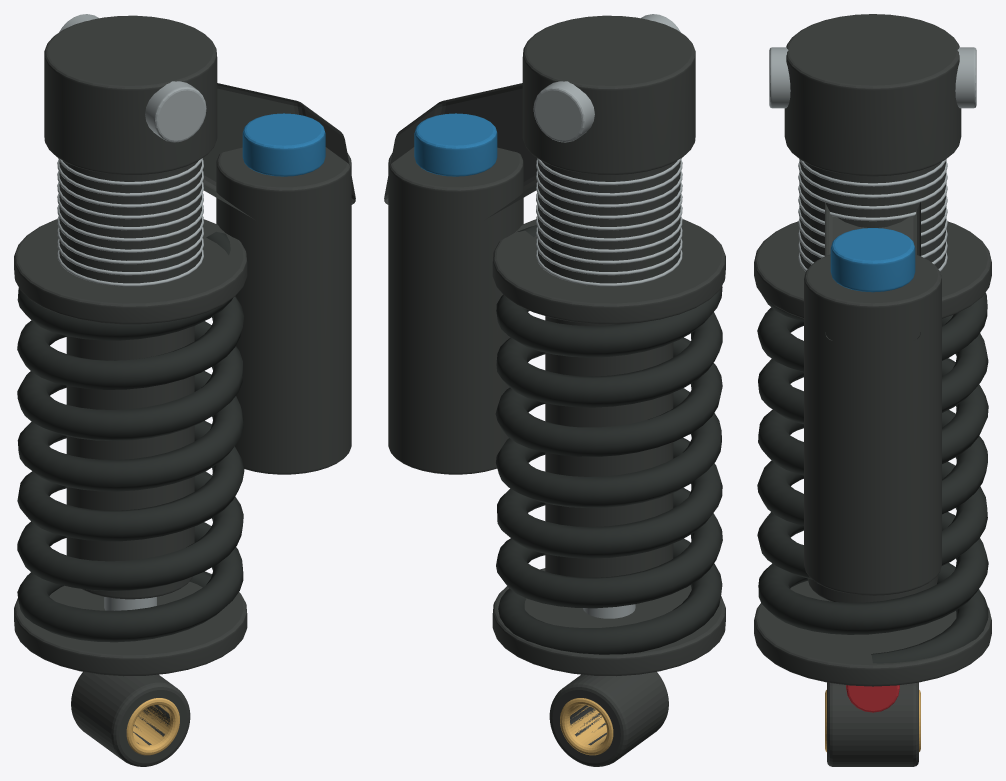
File: marzocchi-bomber-cr--f4d33624.glb
3 renders of one model, left to right at view 1: azimuth 30°, elevation 25°; view 2: azimuth 150°, elevation 25°; view 3: azimuth 270°, elevation 25°, orthographic.
Visible parts, largest first — view 1: marzocchi-bomber-cr--f4d33624__link, marzocchi-bomber-cr--f4d33624__coil, marzocchi-bomber-cr--f4d33624__bolts, marzocchi-bomber-cr--f4d33624__adjuster, marzocchi-bomber-cr--f4d33624__stanchions; view 2: marzocchi-bomber-cr--f4d33624__link, marzocchi-bomber-cr--f4d33624__coil, marzocchi-bomber-cr--f4d33624__bolts, marzocchi-bomber-cr--f4d33624__adjuster, marzocchi-bomber-cr--f4d33624__stanchions; view 3: marzocchi-bomber-cr--f4d33624__link, marzocchi-bomber-cr--f4d33624__coil, marzocchi-bomber-cr--f4d33624__bolts, marzocchi-bomber-cr--f4d33624__adjuster, marzocchi-bomber-cr--f4d33624__rebound.
Boxes of the visible parts, box(x1,y1,x2,y2) form: marzocchi-bomber-cr--f4d33624__link: box(14, 15, 355, 766); marzocchi-bomber-cr--f4d33624__coil: box(17, 231, 244, 642); marzocchi-bomber-cr--f4d33624__bolts: box(57, 14, 206, 610); marzocchi-bomber-cr--f4d33624__adjuster: box(242, 113, 325, 176); marzocchi-bomber-cr--f4d33624__stanchions: box(126, 698, 179, 755); marzocchi-bomber-cr--f4d33624__link: box(384, 15, 725, 766); marzocchi-bomber-cr--f4d33624__coil: box(495, 225, 722, 654); marzocchi-bomber-cr--f4d33624__bolts: box(533, 14, 682, 618); marzocchi-bomber-cr--f4d33624__adjuster: box(414, 113, 497, 176); marzocchi-bomber-cr--f4d33624__stanchions: box(560, 698, 613, 755); marzocchi-bomber-cr--f4d33624__link: box(754, 14, 991, 766); marzocchi-bomber-cr--f4d33624__coil: box(757, 292, 988, 663); marzocchi-bomber-cr--f4d33624__bolts: box(769, 47, 976, 271); marzocchi-bomber-cr--f4d33624__adjuster: box(830, 228, 915, 292); marzocchi-bomber-cr--f4d33624__rebound: box(846, 685, 899, 712).
Bounding box in the file's own units: 0.096 × 0.205 × 0.062.
